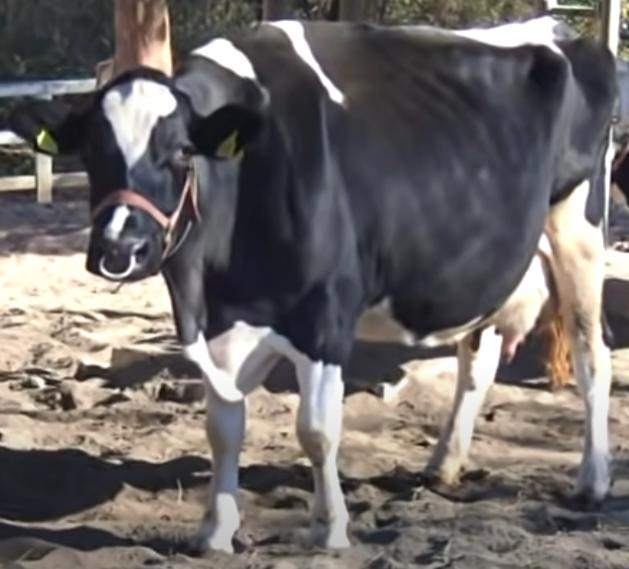cow: (10, 20, 629, 552)
